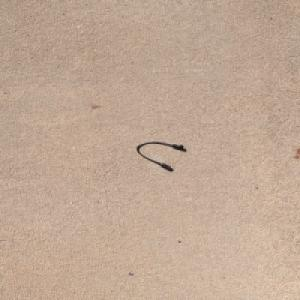Wire: (136, 141, 184, 170)
